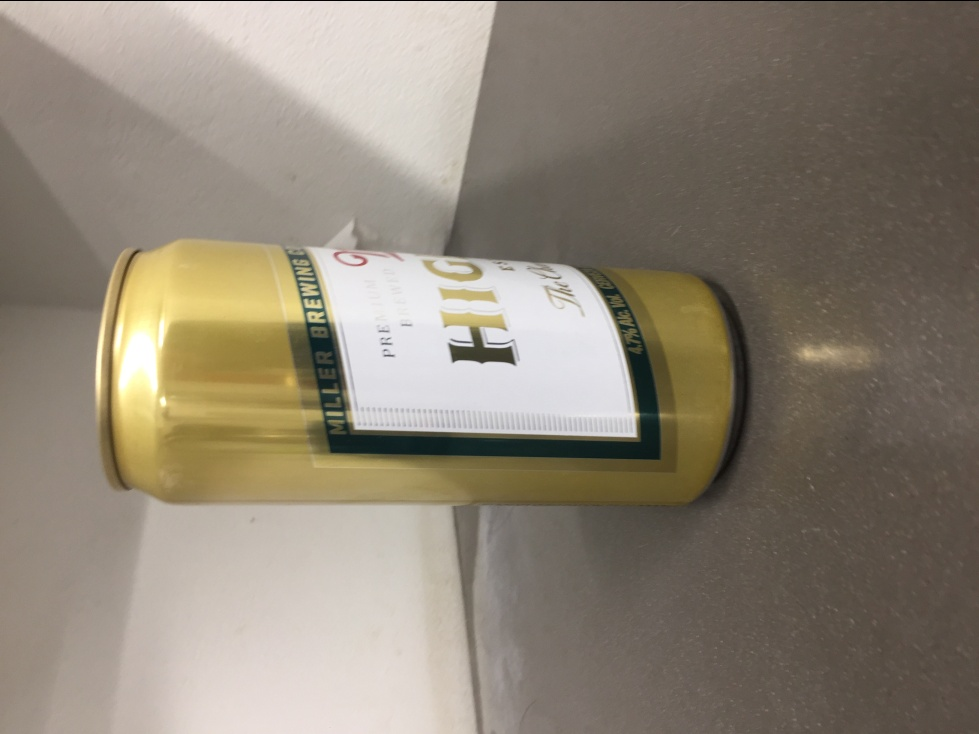miller: (92, 235, 744, 511)
